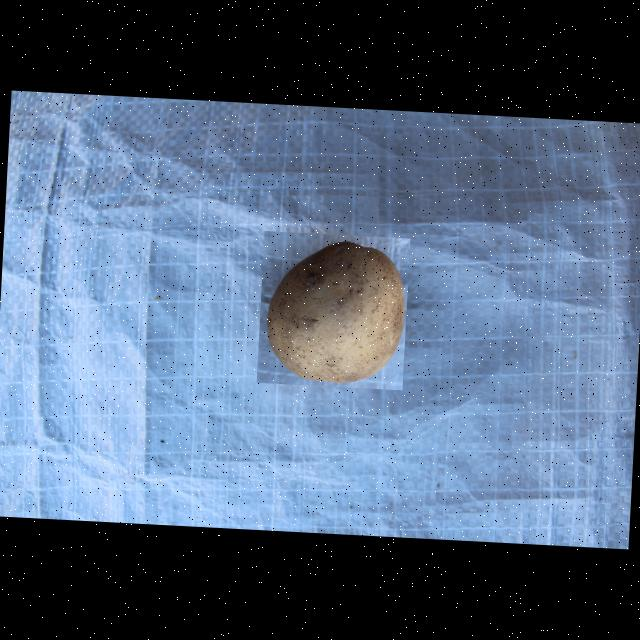Diseased-fungal potato: (256, 231, 411, 390)
